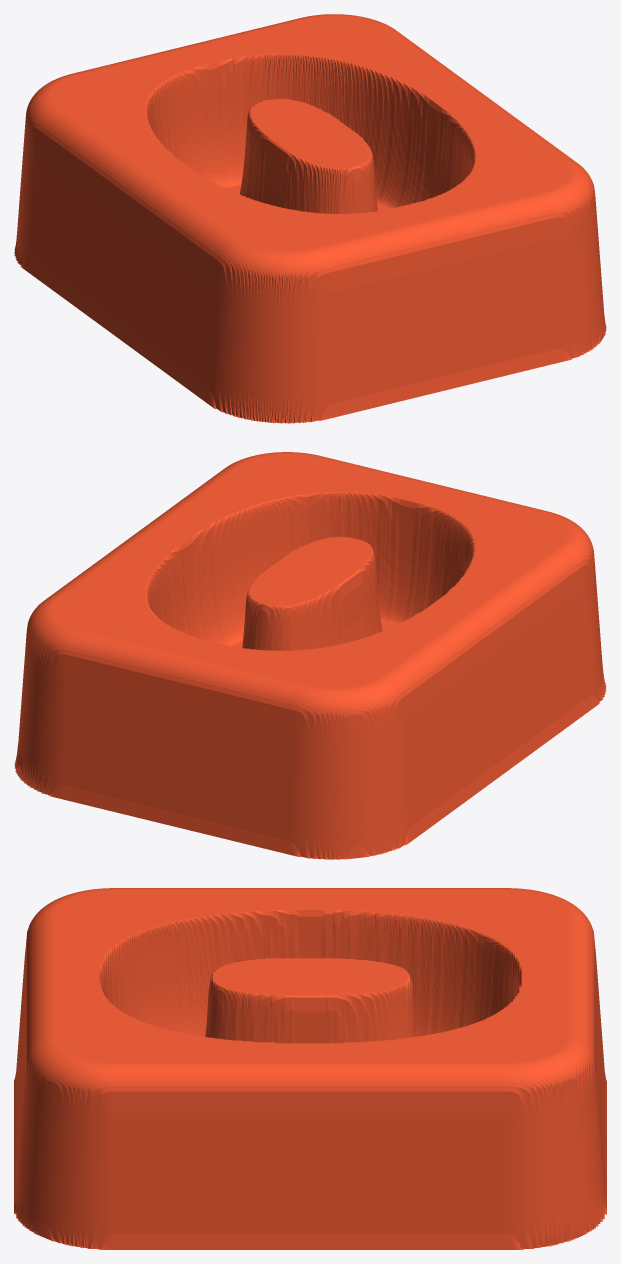
The model's file is mold.glb.
3 views of the same model, one above another, from view 1: azimuth 30°, elevation 25°; view 2: azimuth 150°, elevation 25°; view 3: azimuth 270°, elevation 25° (orthographic). The views are drawn at different scales.
Parts seen in each view (by area): view 1: geometry_0; view 2: geometry_0; view 3: geometry_0.
Boxes of the visible parts, x1=… form: geometry_0: x1=14, y1=14, x2=606, y2=423; geometry_0: x1=14, y1=452, x2=606, y2=859; geometry_0: x1=14, y1=888, x2=606, y2=1249.
Size of the model in its own units: 0.0444 by 0.0172 by 0.0542.
